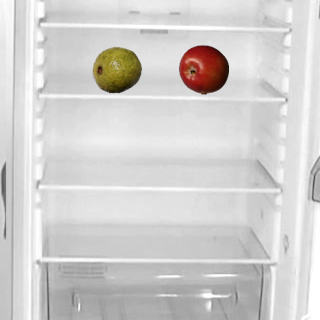Apple Braeburn: (178, 44, 228, 94)
Guava: (91, 44, 141, 94)
